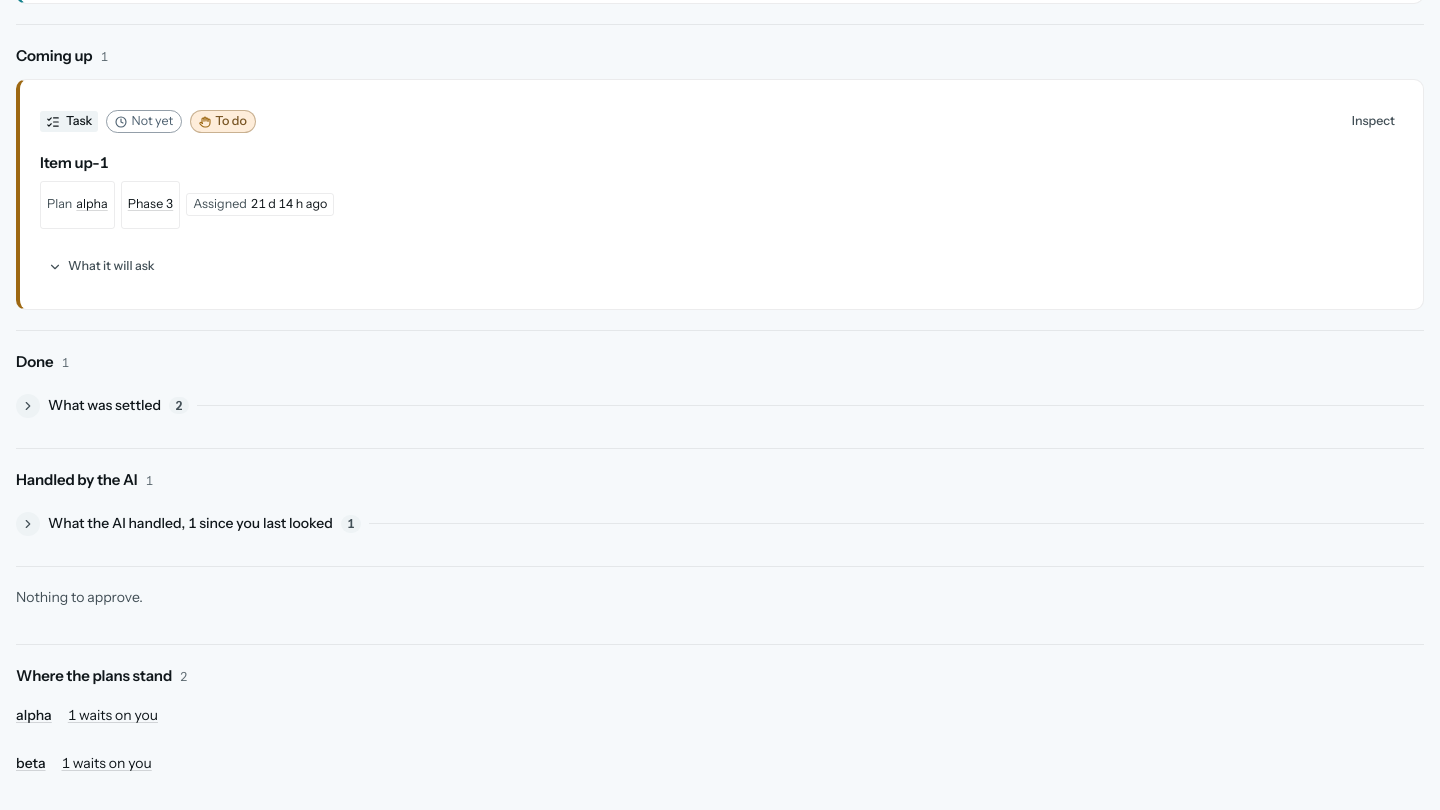
it: TP-3 Done › holds the day’s settled items and the ledger’s older ones, folded with its count
The width and height of the screenshot is (1440, 810).
(page scrolled)
Click the button "What was settled 2": click(105, 405) 16,384 -> 1424,428
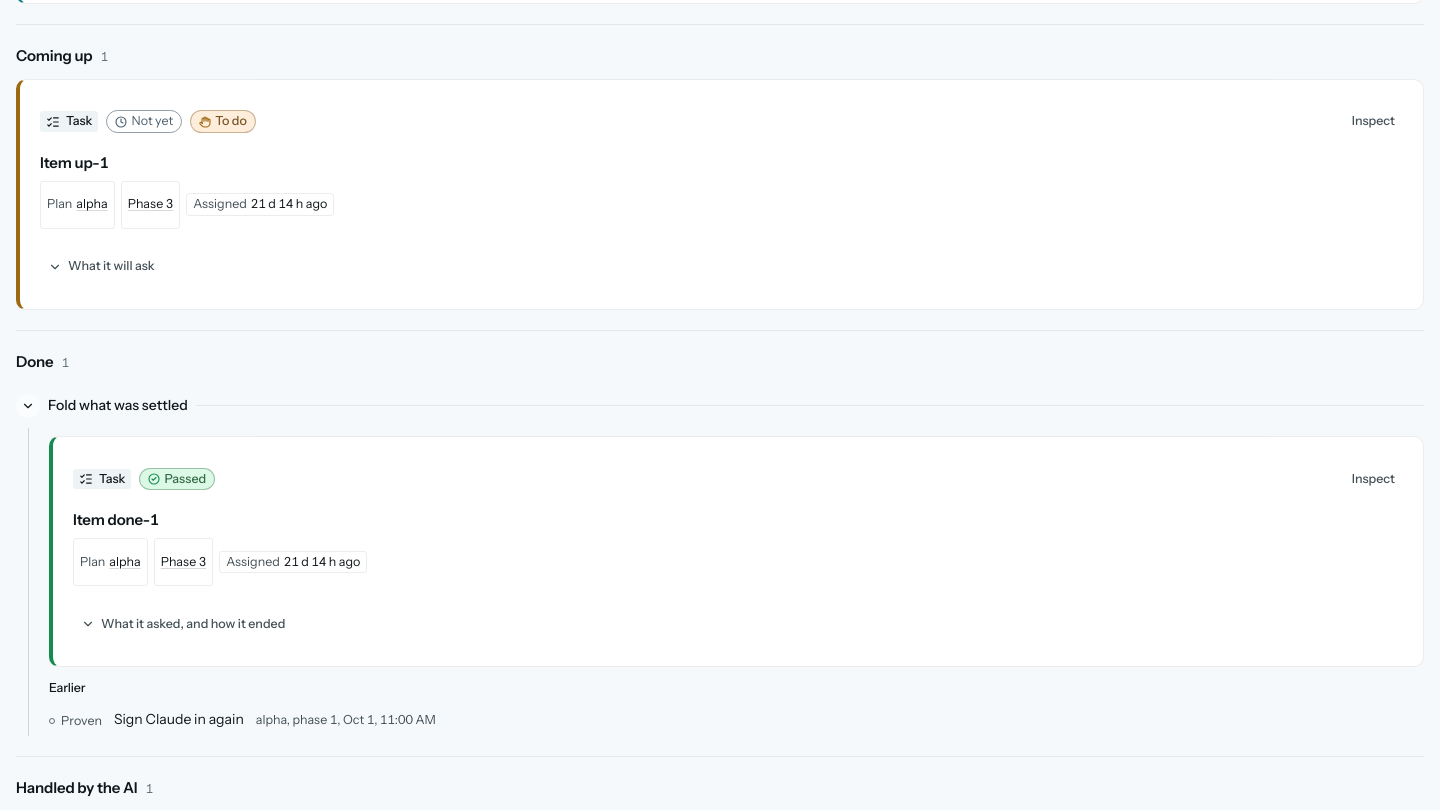
Expected: the list item with test id "turn-done-earlier" shows "Sign Claude in again", 114,710 -> 244,728
